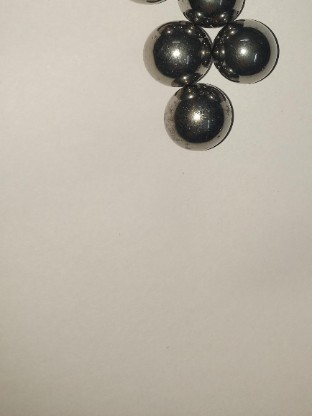ironball: (152, 83, 239, 153), (213, 20, 289, 83), (140, 20, 214, 83), (180, 0, 242, 30)
